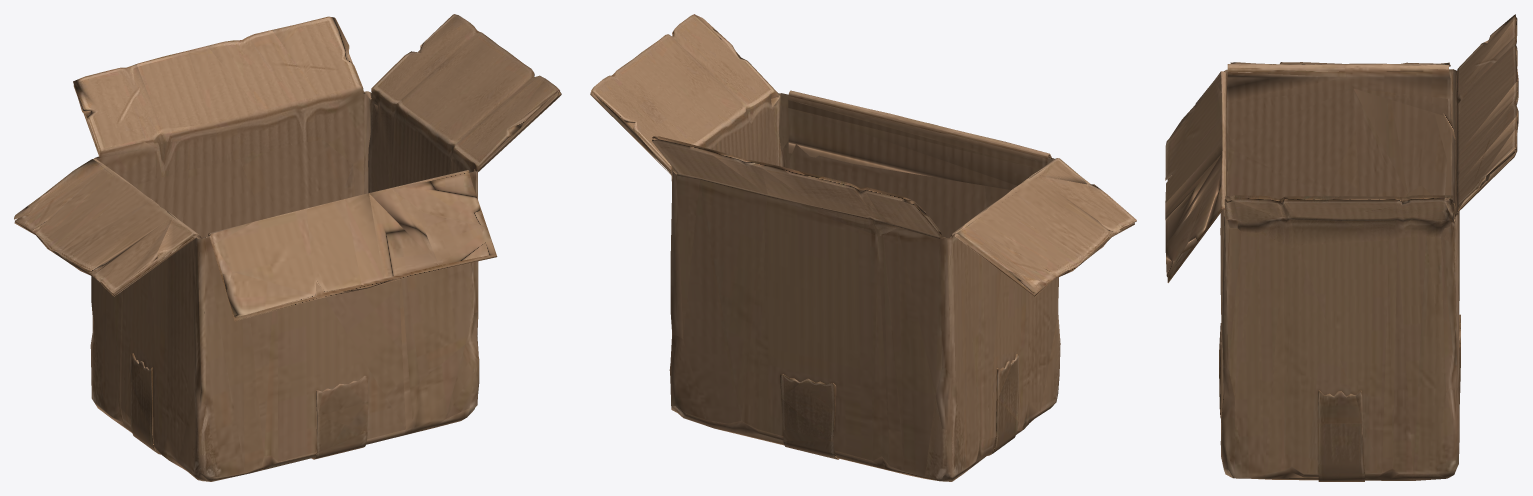
File: box_open.glb
3 views of the same model, side by side, from view 1: azimuth 30°, elevation 25°; view 2: azimuth 150°, elevation 25°; view 3: azimuth 270°, elevation 25° (orthographic). The views are drawn at different scales.
Visible parts, largest first — view 1: box_open; view 2: box_open; view 3: box_open.
Boxes of the visible parts, x1=… form: box_open: x1=14, y1=14, x2=561, y2=481; box_open: x1=590, y1=14, x2=1136, y2=481; box_open: x1=1165, y1=14, x2=1518, y2=481.
Bounding box in the file's own units: 1.05 × 0.6949 × 0.6624.
Materials: 1 (1 with a texture image).
